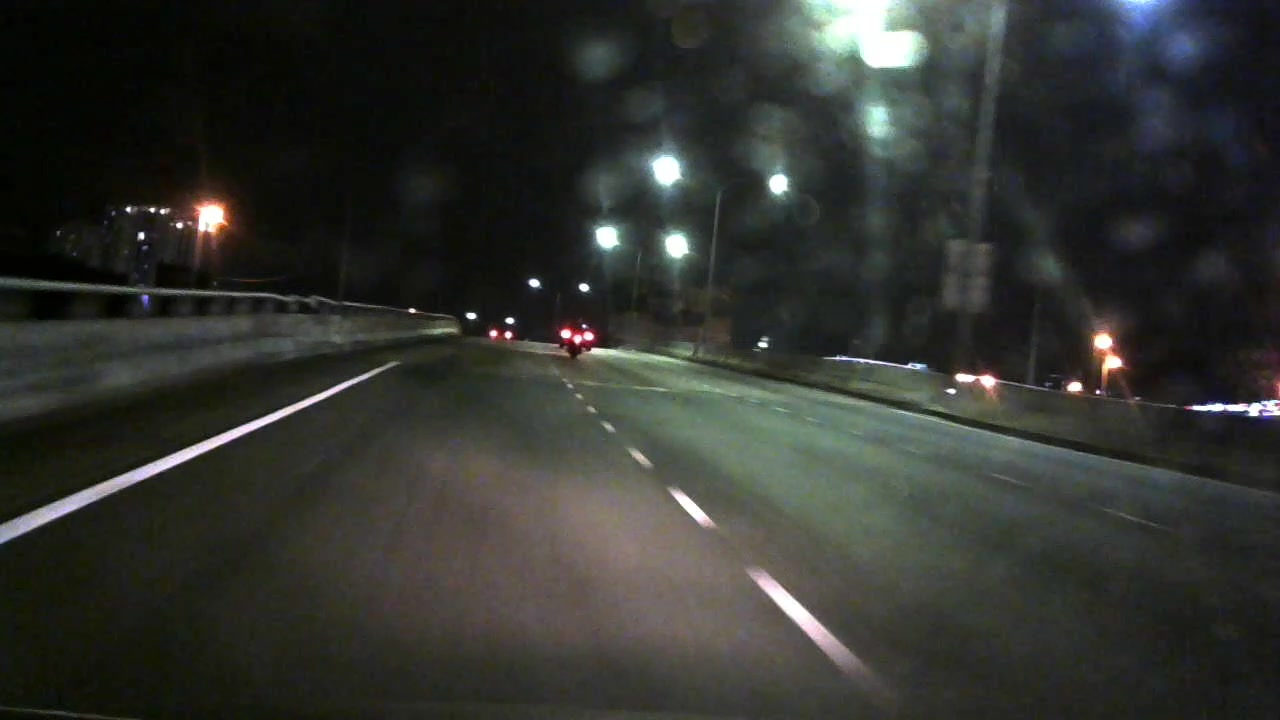Car: (486, 321, 527, 343)
